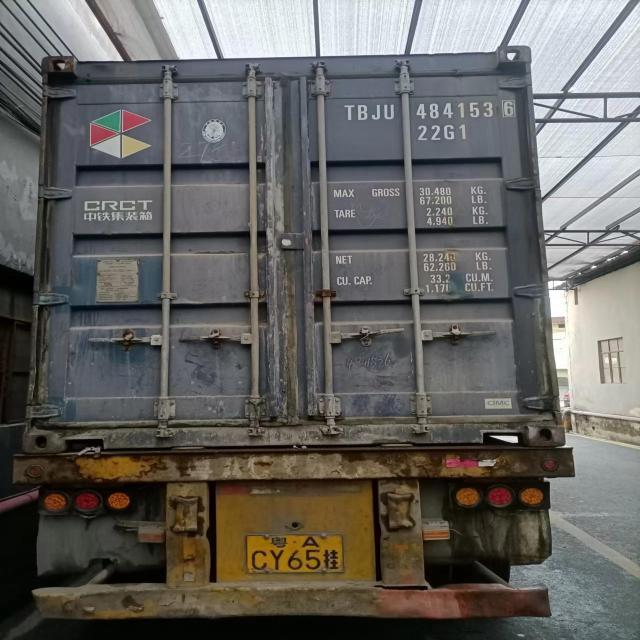ISO: (419, 126, 468, 142)
container_number: (348, 100, 511, 122)
